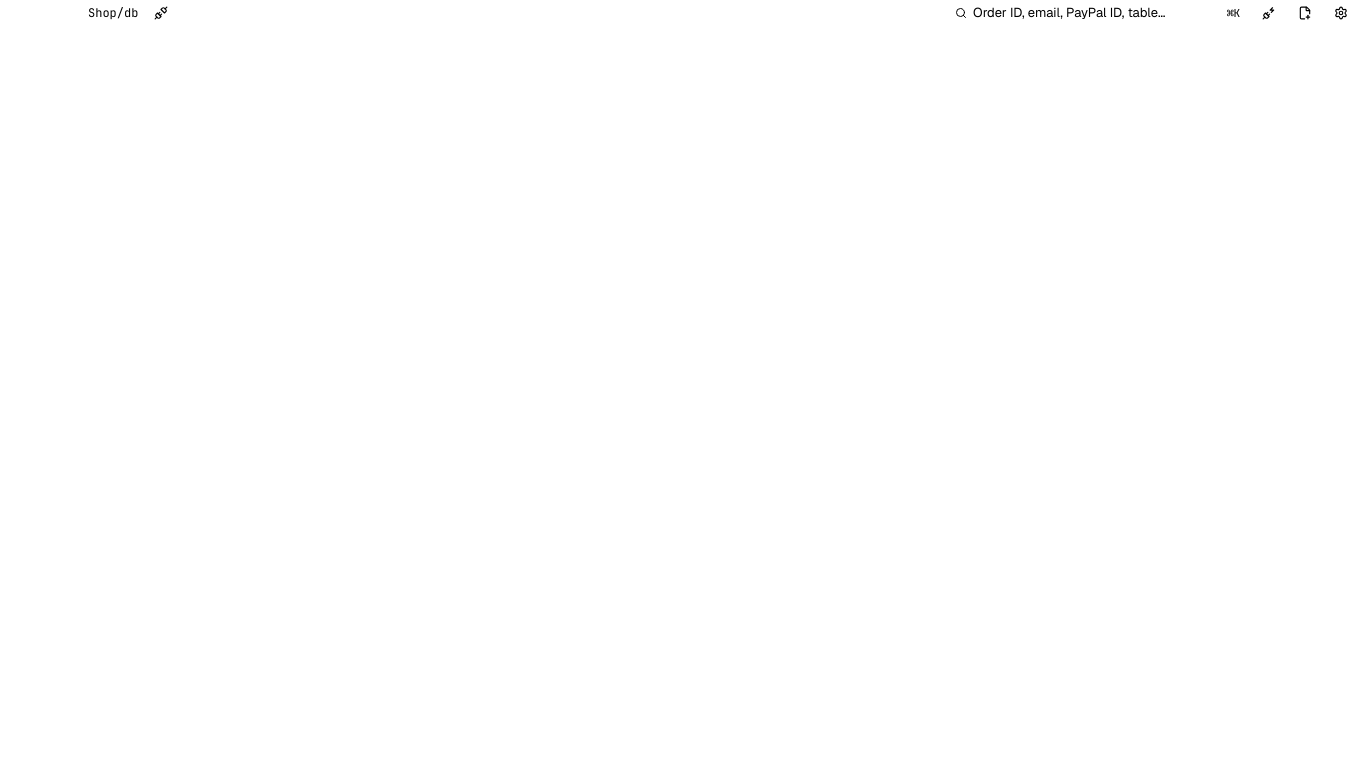
Test case: Toolbar › opens the command palette from the Go to field
Click the button with aria-label "Go to": (1097, 13) [947, 1, 1246, 25]
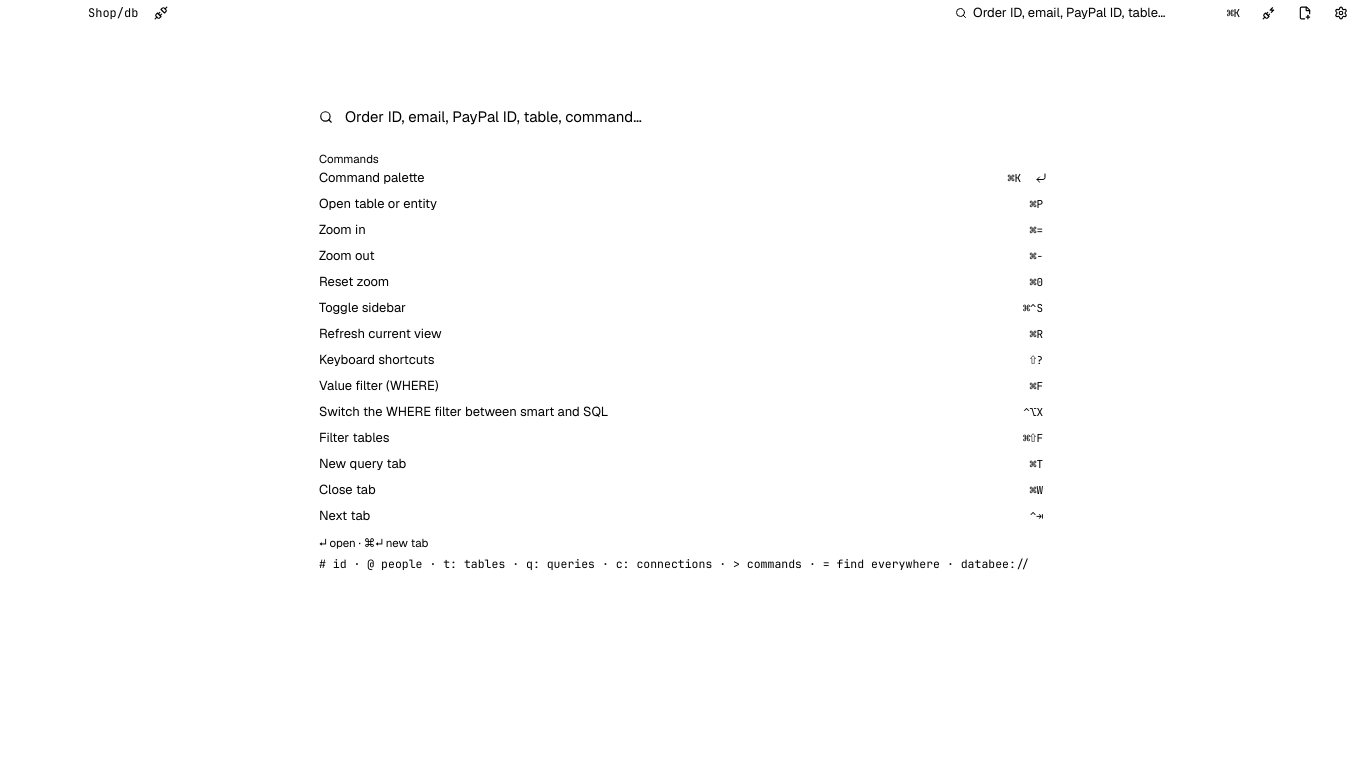
Now the field named "Search everything" is shown, box [343, 106, 1047, 127]
